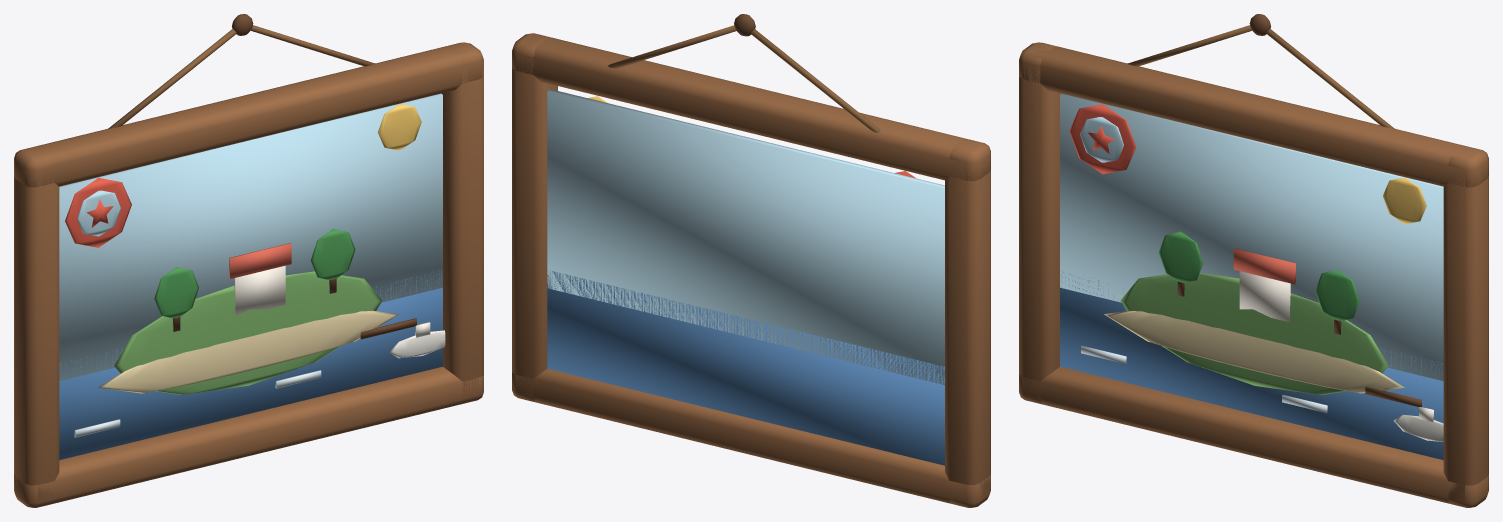
The model's file is friend-island-frame.glb.
The picture shows the model from 3 angles, left to right: view 1: azimuth 30°, elevation 25°; view 2: azimuth 150°, elevation 25°; view 3: azimuth 330°, elevation 25°; orthographic projection.
Visible parts, largest first — view 1: frame; view 2: frame; view 3: frame.
Boxes of the visible parts, x1=… form: frame: x1=14, y1=14, x2=483, y2=507; frame: x1=512, y1=14, x2=990, y2=507; frame: x1=1019, y1=14, x2=1488, y2=507.
Bounding box in the file's own units: 0.82 × 0.738 × 0.062.
